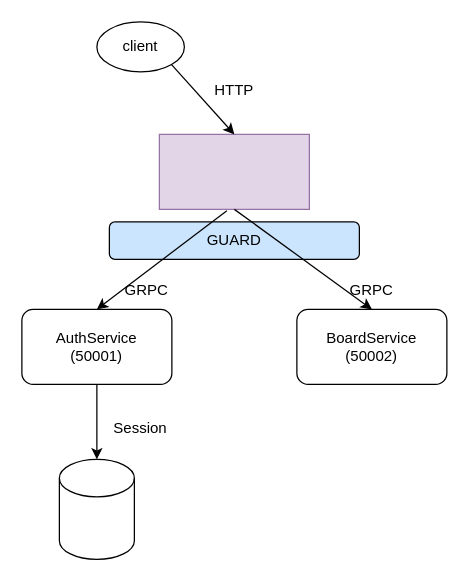
The diagram is 469 pixels wide and 581 high, and some of its shapes have lost their labels. Each missing label, with the centre of its shape:
"API Gateway (3000)" goes at pixel 233 171.
"REDIS (6379)" goes at pixel 96 508.
